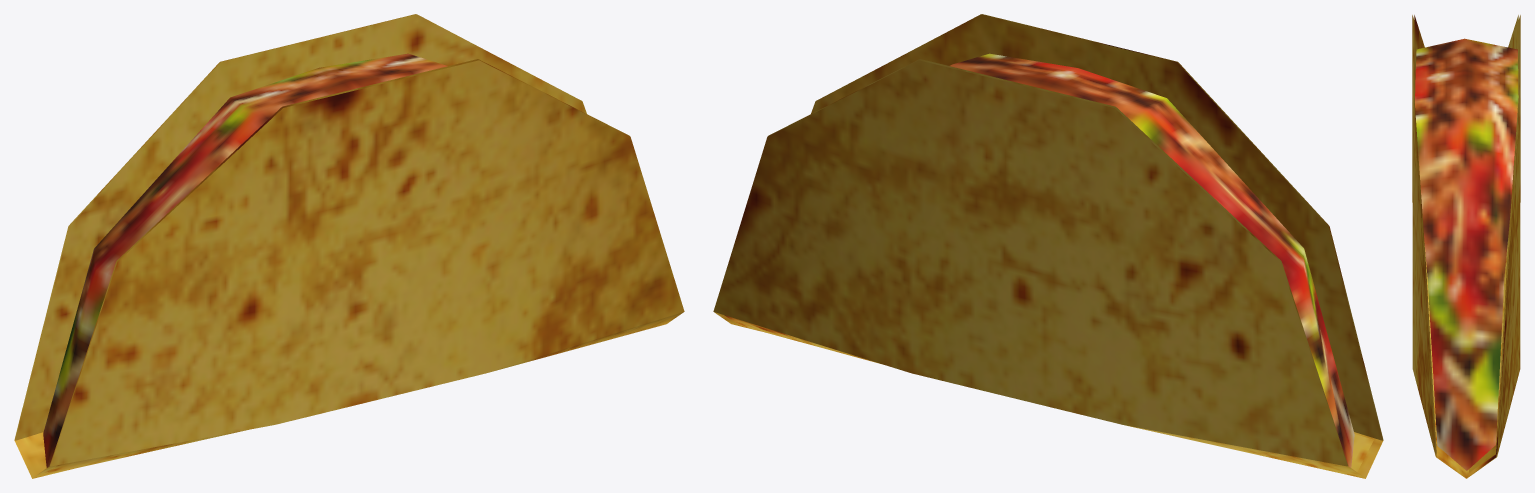
Rendered from Tacos.fbx.
The picture shows the model from 3 angles, left to right: view 1: azimuth 30°, elevation 25°; view 2: azimuth 150°, elevation 25°; view 3: azimuth 270°, elevation 25°; orthographic projection. The views are drawn at different scales.
Visible parts, largest first — view 1: Tacos; view 2: Tacos; view 3: Tacos.
Boxes of the visible parts, bbox=[...] form: Tacos: bbox=[14, 14, 684, 478]; Tacos: bbox=[713, 14, 1383, 478]; Tacos: bbox=[1412, 15, 1520, 478].
Size of the model in its own units: 17.74 by 3.06 by 9.11.
